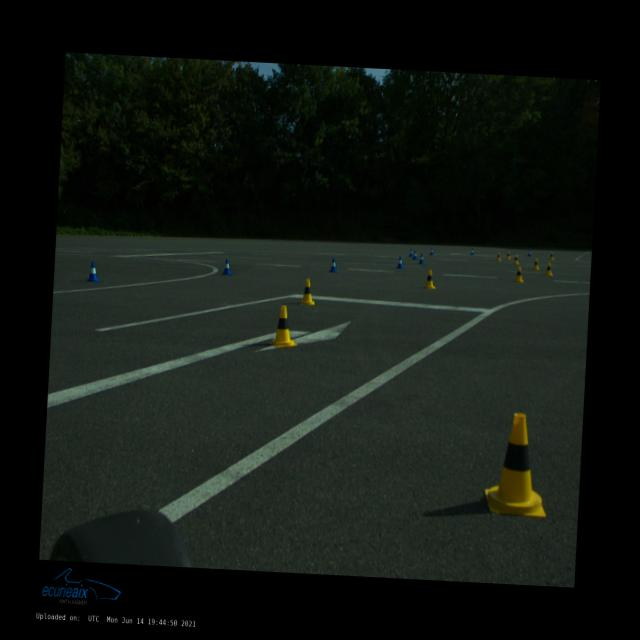blue_cone: (86, 262, 101, 282), (222, 258, 233, 276), (329, 258, 338, 272), (396, 256, 404, 268), (418, 253, 425, 264), (412, 251, 418, 260), (408, 248, 414, 257), (470, 248, 474, 256), (430, 248, 434, 255), (528, 250, 532, 256)
yellow_cone: (484, 412, 552, 518), (268, 304, 300, 348), (301, 278, 316, 306), (424, 269, 438, 289), (514, 266, 524, 282), (544, 262, 554, 276), (532, 258, 540, 270), (513, 254, 519, 264), (496, 252, 502, 262), (506, 251, 511, 260), (549, 252, 554, 260)
